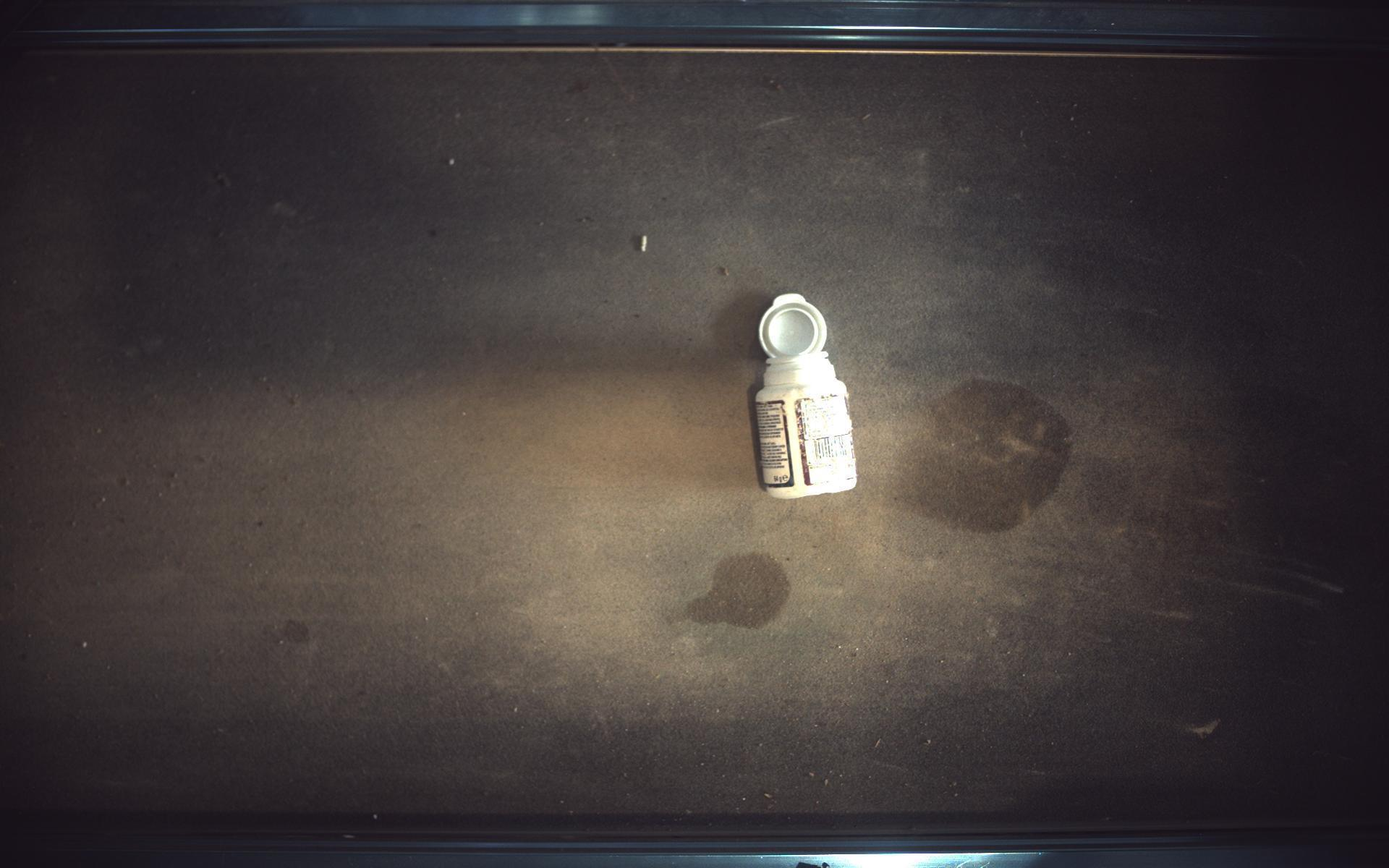general_w: (757, 293, 859, 498)
